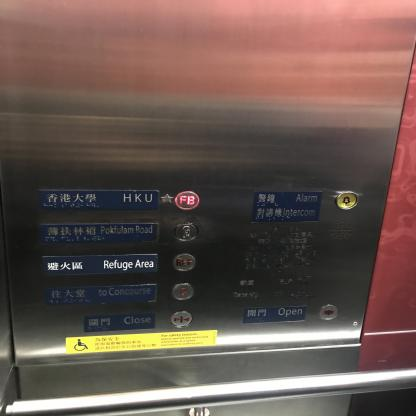C: (170, 282, 195, 301)
FB: (173, 190, 201, 210)
G: (173, 221, 200, 242)
REF: (171, 252, 197, 272)
alarm: (334, 190, 358, 210)
close: (168, 310, 193, 328)
open: (316, 304, 340, 320)
